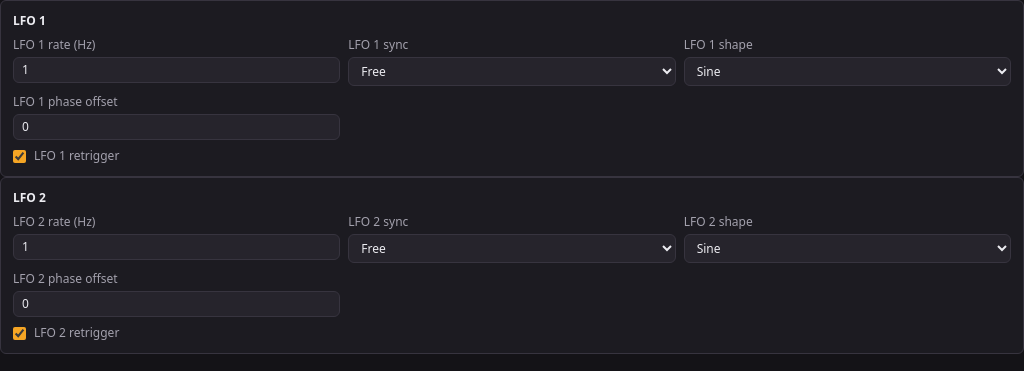
Test case: LfoEditor (spec §8.5.5, §6) › disables the Hz rate once a note division decides it (spec §6)
Expected: the number field labelled "LFO 1 rate (Hz)" is enabled, x1=13 y1=57 x2=340 y2=83
Select "1/16" in the dropdown labelled "LFO 1 sync": coordinates (512, 72) x1=348 y1=57 x2=676 y2=86
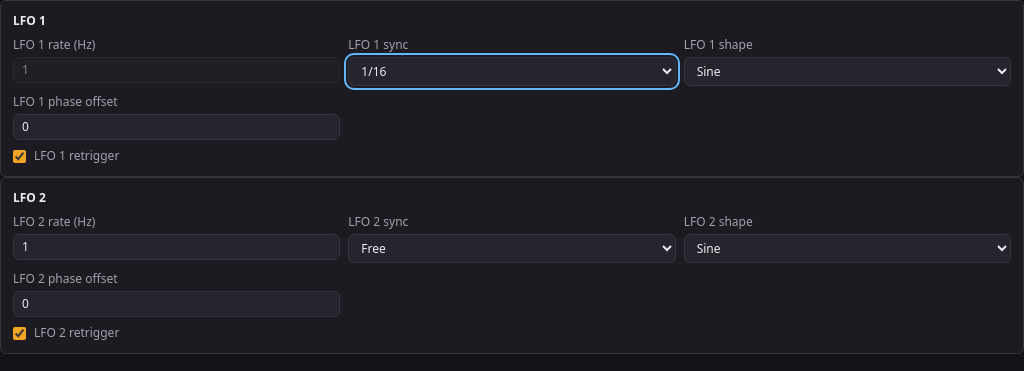
Expected: the number field labelled "LFO 2 rate (Hz)" is enabled, x1=13 y1=234 x2=340 y2=260
Result: the number field labelled "LFO 1 rate (Hz)" is disabled at x1=13 y1=57 x2=340 y2=83
